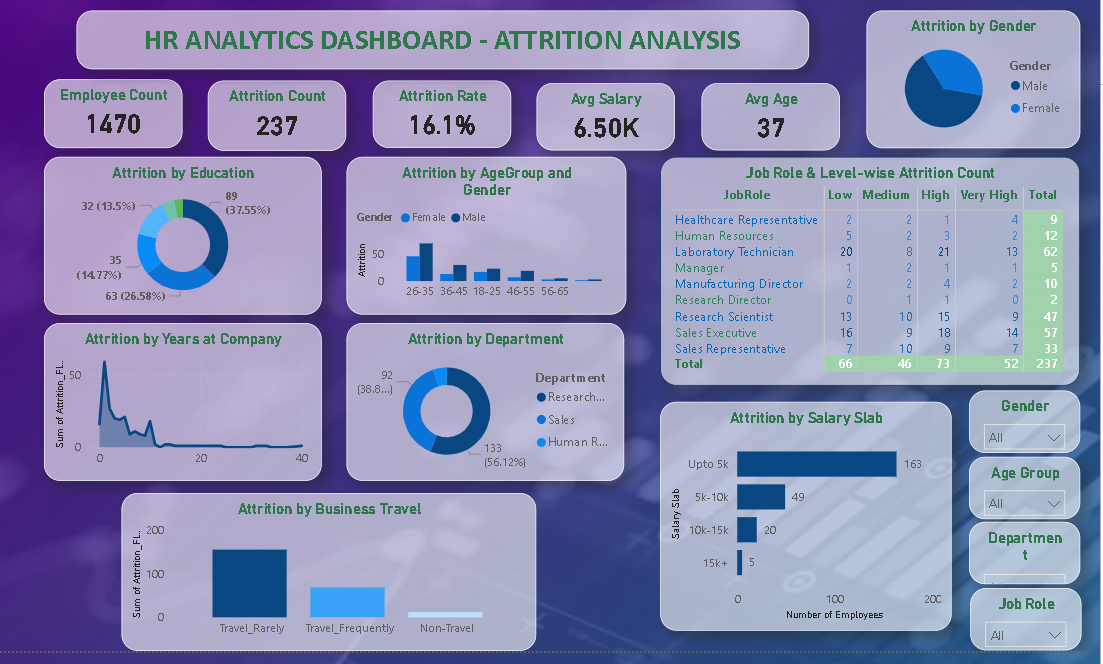

The dashboard page shown, as its layout file describes it:
{"tool":"powerbi","page":{"name":"Page 1","canvas":[1300,750],"ordinal":0},"visuals":[{"type":"card","title":"Employee Count","fields":{"Values":["HR_PowerBI_Complete.Total Employees"]},"box":[122.6,114.6,154.7,75.3],"z":0},{"type":"card","title":"Attrition Count","fields":{"Values":["HR_PowerBI_Complete.Total Attrition"]},"box":[305.2,114.3,154.7,75.3],"z":1000},{"type":"card","title":"Attrition Rate","fields":{"Values":["HR_PowerBI_Complete.Attrition Rate %"]},"box":[489.2,114.3,154.7,75.3],"z":2000},{"type":"card","title":"Avg Salary","fields":{"Values":["HR_PowerBI_Complete.Average Salary"]},"box":[671.7,117.1,154.7,75.3],"z":3000},{"type":"card","title":"Avg Age","fields":{"Values":["HR_PowerBI_Complete.Average Age"]},"box":[855.7,117.1,154.7,75.3],"z":4000},{"type":"pieChart","title":"Attrition by Gender","fields":{"Category":["HR_PowerBI_Complete.Gender"],"Y":["HR_PowerBI_Complete.Total Attrition"]},"box":[1039.7,36.2,238.3,153.3],"z":5000},{"type":"donutChart","title":"Attrition by Education","fields":{"Category":["HR_PowerBI_Complete.EducationField"],"Y":["Sum(HR_PowerBI_Complete.Attrition_Flag)"]},"box":[122.6,199.3,309.4,175.6],"z":6000},{"type":"clusteredColumnChart","title":" Attrition by AgeGroup and Gender","fields":{"Category":["HR_PowerBI_Complete.Age_Group"],"Y":["Sum(HR_PowerBI_Complete.Attrition_Flag)"],"Series":["HR_PowerBI_Complete.Gender"]},"box":[459.9,199.3,312.2,175.6],"z":7000},{"type":"textbox","box":[158.9,36.2,816.7,65.5],"z":8000},{"type":"donutChart","title":" Attrition by Department","fields":{"Y":["Sum(HR_PowerBI_Complete.Attrition_Flag)"],"Category":["HR_PowerBI_Complete.Department"]},"box":[459.9,384.6,309.4,175.6],"z":9000},{"type":"areaChart","title":"Attrition by Years at Company","fields":{"Category":["HR_PowerBI_Complete.YearsAtCompany"],"Y":["Sum(HR_PowerBI_Complete.Attrition_Flag)"]},"box":[122.6,384.6,309.4,175.6],"z":10000},{"type":"columnChart","title":"Attrition by Business Travel","fields":{"Category":["HR_PowerBI_Complete.BusinessTravel"],"Y":["Sum(HR_PowerBI_Complete.Attrition_Flag)"]},"box":[209,574.2,462.7,175.6],"z":11000},{"type":"clusteredBarChart","title":" Attrition by Salary Slab","fields":{"Category":["HR_PowerBI_Complete.Salary Slab"],"Y":["Sum(HR_PowerBI_Complete.Attrition_Flag)"]},"box":[809.7,472.5,324.7,255],"z":12000},{"type":"pivotTable","title":"Job Role & Level-wise Attrition Count","fields":{"Rows":["HR_PowerBI_Complete.JobRole"],"Columns":["HR_PowerBI_Complete.Job_Satisfaction_Level"],"Values":["Sum(HR_PowerBI_Complete.Attrition_Flag)"]},"box":[809.7,199.3,468.3,255],"z":13000},{"type":"slicer","title":"Age Group","fields":{"Values":["HR_PowerBI_Complete.Age_Group"]},"box":[1153.9,533.8,124,69.7],"z":14000},{"type":"slicer","title":"Gender","fields":{"Values":["HR_PowerBI_Complete.Gender"]},"box":[1153.9,459.9,124,69.7],"z":17000},{"type":"slicer","title":"Department","fields":{"Values":["HR_PowerBI_Complete.Department"]},"box":[1153.9,606.2,124,69.7],"z":18000},{"type":"slicer","title":"Job Role","fields":{"Values":["HR_PowerBI_Complete.JobRole"]},"box":[1155.3,680.1,124,69.7],"z":19000}]}

Visuals, with their boxes in screenshot pixels (x1, y1, x2, y2):
"Employee Count" card: bbox=[38, 77, 178, 145]
"Attrition Count" card: bbox=[203, 77, 342, 145]
"Attrition Rate" card: bbox=[368, 77, 507, 145]
"Avg Salary" card: bbox=[532, 79, 671, 147]
"Avg Age" card: bbox=[698, 79, 837, 147]
"Attrition by Gender" pieChart: bbox=[863, 7, 1078, 145]
"Attrition by Education" donutChart: bbox=[38, 153, 317, 311]
" Attrition by AgeGroup and Gender" clusteredColumnChart: bbox=[342, 153, 623, 311]
textbox: bbox=[71, 7, 806, 66]
" Attrition by Department" donutChart: bbox=[342, 320, 620, 478]
"Attrition by Years at Company" areaChart: bbox=[38, 320, 317, 478]
"Attrition by Business Travel" columnChart: bbox=[116, 491, 532, 648]
" Attrition by Salary Slab" clusteredBarChart: bbox=[656, 399, 948, 628]
"Job Role & Level-wise Attrition Count" pivotTable: bbox=[656, 153, 1078, 383]
"Age Group" slicer: bbox=[966, 454, 1077, 517]
"Gender" slicer: bbox=[966, 388, 1077, 450]
"Department" slicer: bbox=[966, 519, 1077, 582]
"Job Role" slicer: bbox=[967, 586, 1079, 648]
